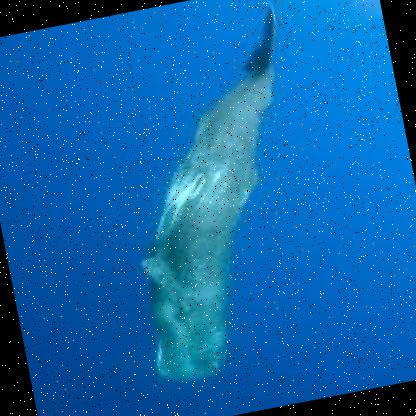sperm_whale: (55, 2, 360, 396)
